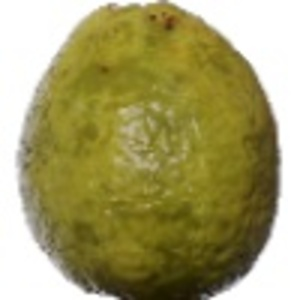goiaba: (11, 2, 283, 299)
